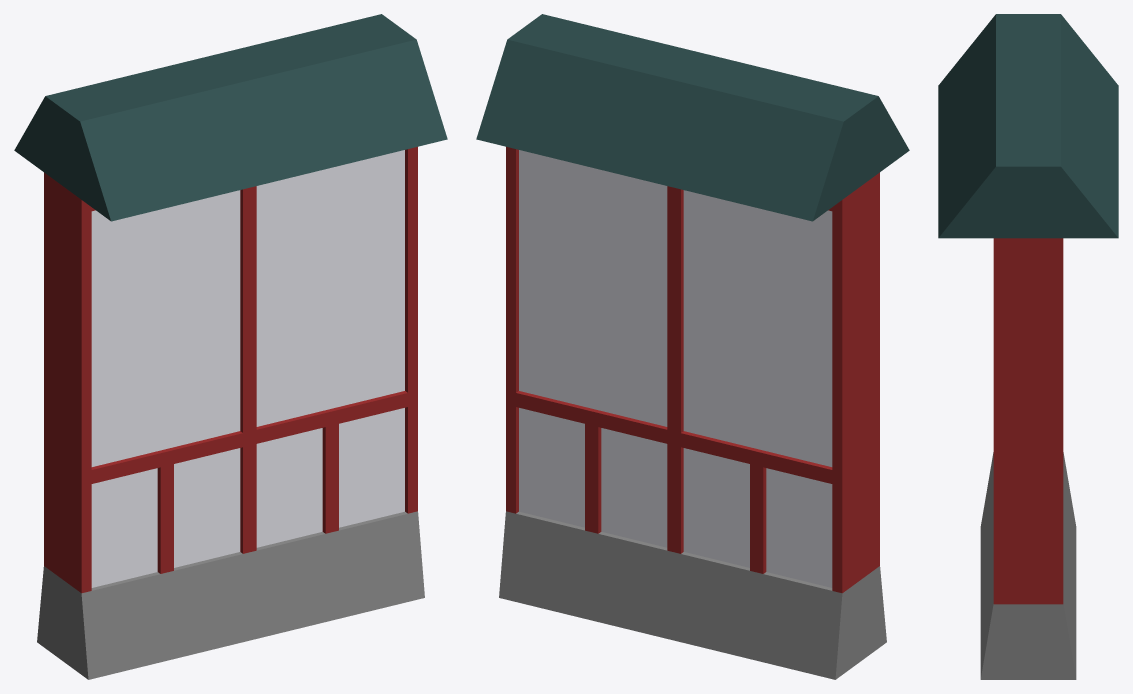
Rendered from Asian_Prop_Building_Fence_Wall_Framed_Small_02.FBX.
The picture shows the model from 3 angles, left to right: view 1: azimuth 30°, elevation 25°; view 2: azimuth 150°, elevation 25°; view 3: azimuth 270°, elevation 25°; orthographic projection. The views are drawn at different scales.
Parts seen in each view (by area): view 1: Asian_Prop_Building_Fence_Wall_Framed_Small_02; view 2: Asian_Prop_Building_Fence_Wall_Framed_Small_02; view 3: Asian_Prop_Building_Fence_Wall_Framed_Small_02.
Part boxes in pixels (x1,y1,x2,y2): Asian_Prop_Building_Fence_Wall_Framed_Small_02: [14, 14, 447, 679]; Asian_Prop_Building_Fence_Wall_Framed_Small_02: [476, 14, 909, 679]; Asian_Prop_Building_Fence_Wall_Framed_Small_02: [938, 14, 1118, 679].
Size of the model in its own units: 2584 by 4051 by 1290.
